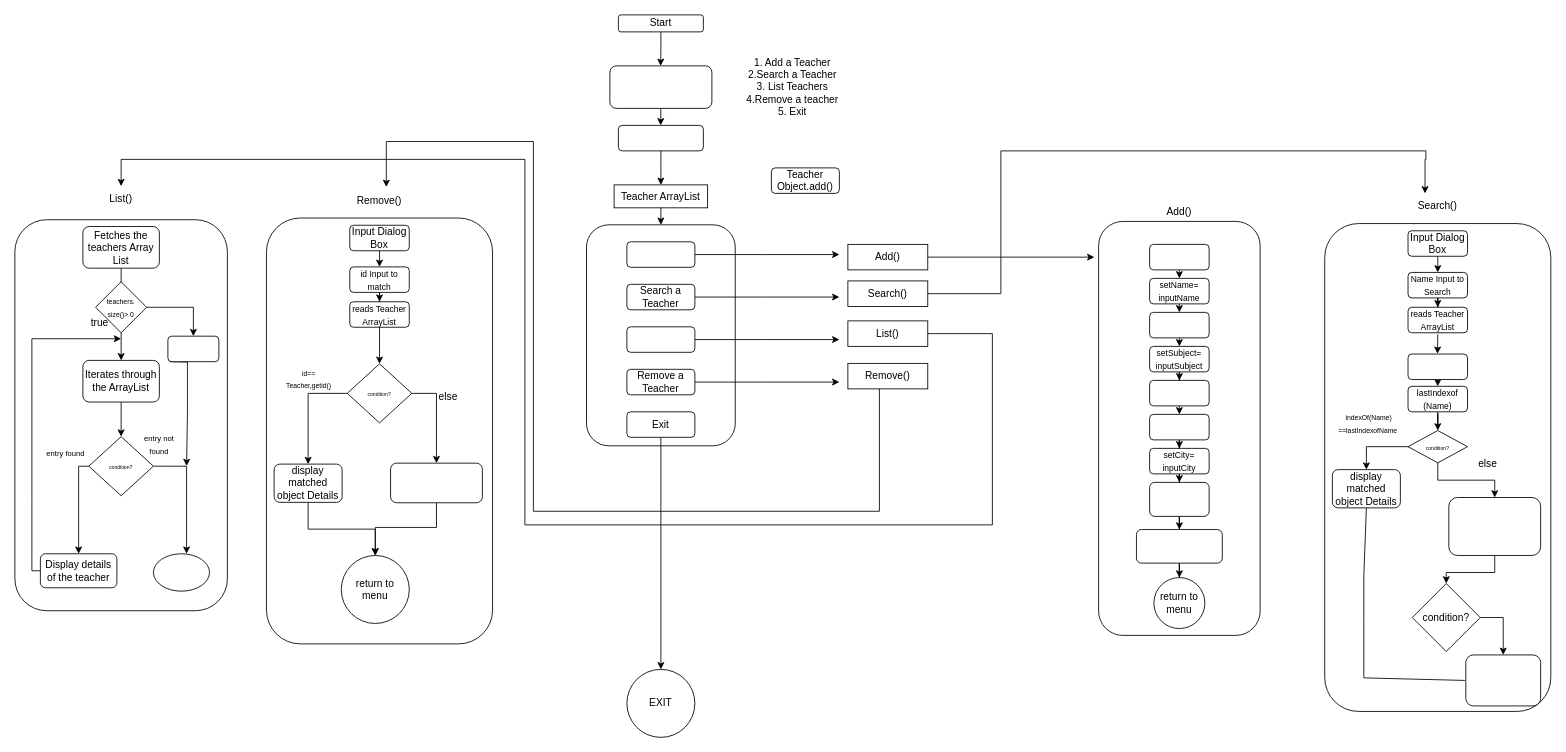
Some shapes in this 1566 by 752 pixel diagram are drawn without their labels. The shapes that lost their labels are listed below. From the top down, each one's box as (x1, y1, x2, y2) in pixels, then its label:
(609, 65, 712, 108): Dialog Message For options
(618, 125, 703, 151): Declaring Teacher ArrayList
(626, 241, 695, 267): Add a teacher
(1149, 244, 1209, 270): New Object of Teacher
(626, 326, 695, 352): List Teachers
(1149, 312, 1209, 338): setBoD= inputBoD
(167, 335, 219, 362): print (Empty List)
(1407, 353, 1468, 380): indexOf (Name)
(1149, 380, 1209, 406): setSalary= inputSalary
(1149, 414, 1209, 440): setAddress= inputAddress
(390, 462, 482, 503): Print: No Match Found against id
(1149, 482, 1209, 516): setCountry= inputCountry
(1136, 529, 1222, 563): Print (Added to the list)
(1448, 497, 1541, 555): linear search for duplicates between indexOf() and lastIndexOf() value
(153, 553, 210, 591): Menu
(1465, 654, 1541, 706): add indices to the duplicates
